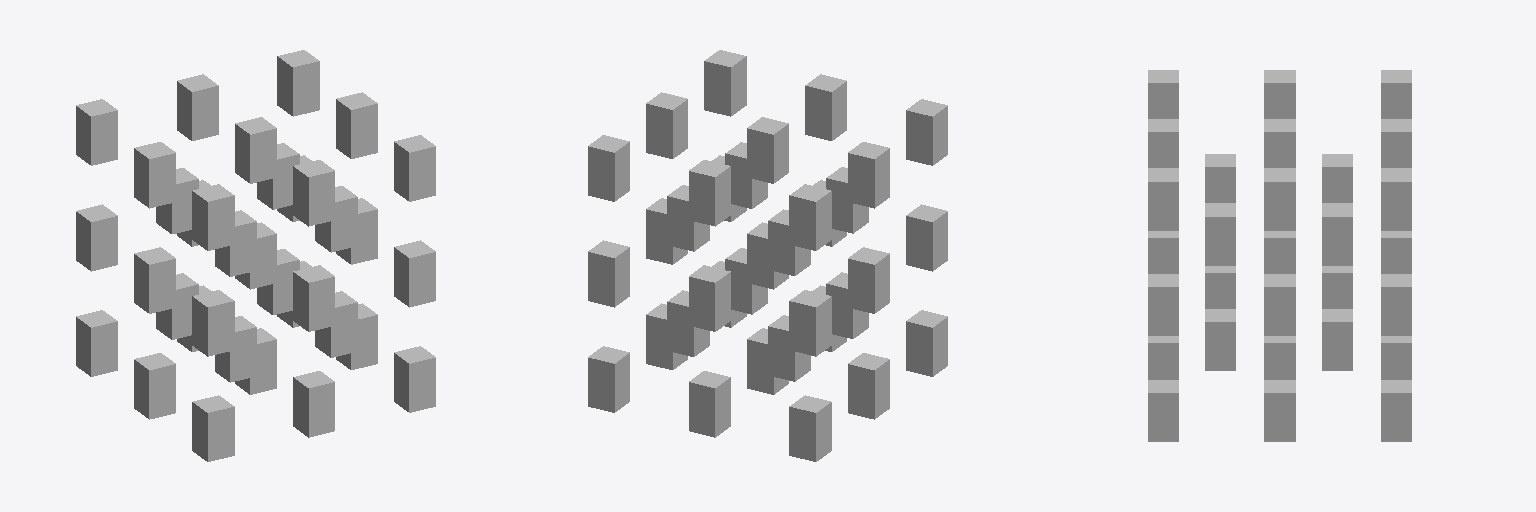
File: cude_metrics.obj
3 views of the same model, side by side, from view 1: azimuth 30°, elevation 25°; view 2: azimuth 150°, elevation 25°; view 3: azimuth 270°, elevation 25° (orthographic).
Visible parts, largest first — view 1: 009_Box_29, 010_Box_29, 008_Box_29, 034_Box_29, 014_Box_29, 022_Box_29, 028_Box_29, 011_Box_29, 012_Box_29, 015_Box_29, 016_Box_29, 017_Box_29 (+19 smaller); view 2: 015_Box_29, 016_Box_29, 014_Box_29, 028_Box_29, 008_Box_29, 022_Box_29, 034_Box_29, 009_Box_29, 010_Box_29, 011_Box_29, 012_Box_29, 019_Box_29 (+19 smaller); view 3: 031_Box_29, 029_Box_29, 030_Box_29, 005_Box_17, 007_Box_17, 028_Box_29, 034_Box_29, 004_Box_17, 006_Box_17, 026_Box_29, 027_Box_29, 032_Box_29 (+17 smaller).
Part boxes in pixels (left/top/right/bottom): 009_Box_29: left=192, top=290, right=234, bottom=356; 010_Box_29: left=192, top=184, right=234, bottom=250; 008_Box_29: left=192, top=395, right=234, bottom=461; 034_Box_29: left=277, top=50, right=319, bottom=116; 014_Box_29: left=76, top=310, right=117, bottom=376; 022_Box_29: left=235, top=117, right=276, bottom=183; 028_Box_29: left=394, top=135, right=435, bottom=201; 011_Box_29: left=134, top=353, right=175, bottom=419; 012_Box_29: left=134, top=247, right=175, bottom=313; 015_Box_29: left=76, top=204, right=117, bottom=271; 016_Box_29: left=76, top=99, right=117, bottom=165; 017_Box_29: left=293, top=371, right=334, bottom=437; 015_Box_29: left=789, top=290, right=831, bottom=356; 016_Box_29: left=789, top=184, right=831, bottom=250; 014_Box_29: left=789, top=395, right=831, bottom=461; 028_Box_29: left=704, top=50, right=746, bottom=116; 008_Box_29: left=906, top=310, right=947, bottom=376; 022_Box_29: left=747, top=117, right=788, bottom=183; 034_Box_29: left=588, top=135, right=629, bottom=201; 009_Box_29: left=906, top=204, right=947, bottom=271; 010_Box_29: left=906, top=99, right=947, bottom=165; 011_Box_29: left=848, top=353, right=889, bottom=419; 012_Box_29: left=848, top=247, right=889, bottom=313; 019_Box_29: left=805, top=74, right=846, bottom=140; 031_Box_29: left=1264, top=168, right=1295, bottom=230; 029_Box_29: left=1264, top=380, right=1295, bottom=441; 030_Box_29: left=1264, top=274, right=1295, bottom=335; 005_Box_17: left=1205, top=203, right=1235, bottom=265; 007_Box_17: left=1322, top=203, right=1352, bottom=265; 028_Box_29: left=1148, top=168, right=1178, bottom=230; 034_Box_29: left=1381, top=168, right=1411, bottom=230; 004_Box_17: left=1205, top=309, right=1235, bottom=370; 006_Box_17: left=1322, top=309, right=1352, bottom=370; 026_Box_29: left=1148, top=380, right=1178, bottom=441; 027_Box_29: left=1148, top=274, right=1178, bottom=335; 032_Box_29: left=1381, top=380, right=1411, bottom=441.
Size of the model in its own units: 136 by 148 by 136.